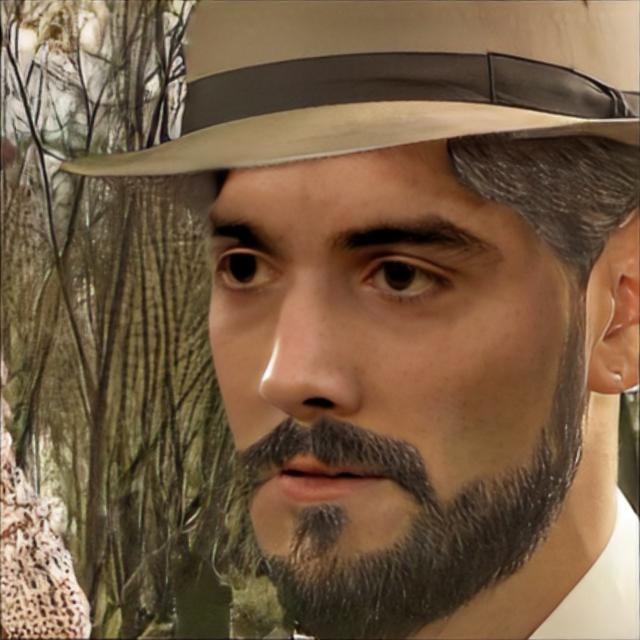neutral: (199, 131, 586, 640)
